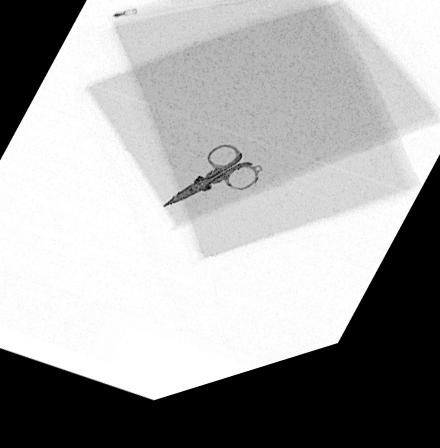Scissors: (159, 157, 264, 217)
